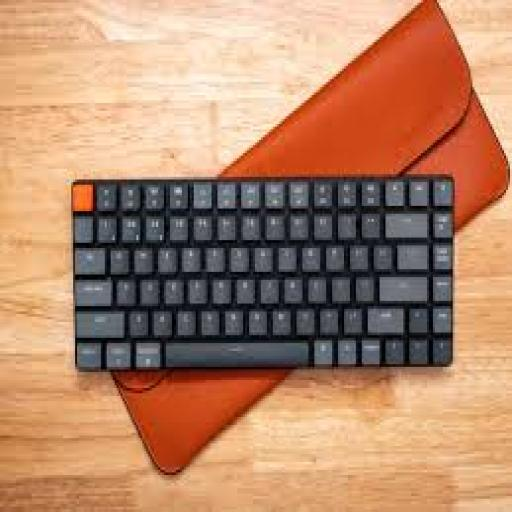KEYBOARD-2: (73, 174, 457, 369)
